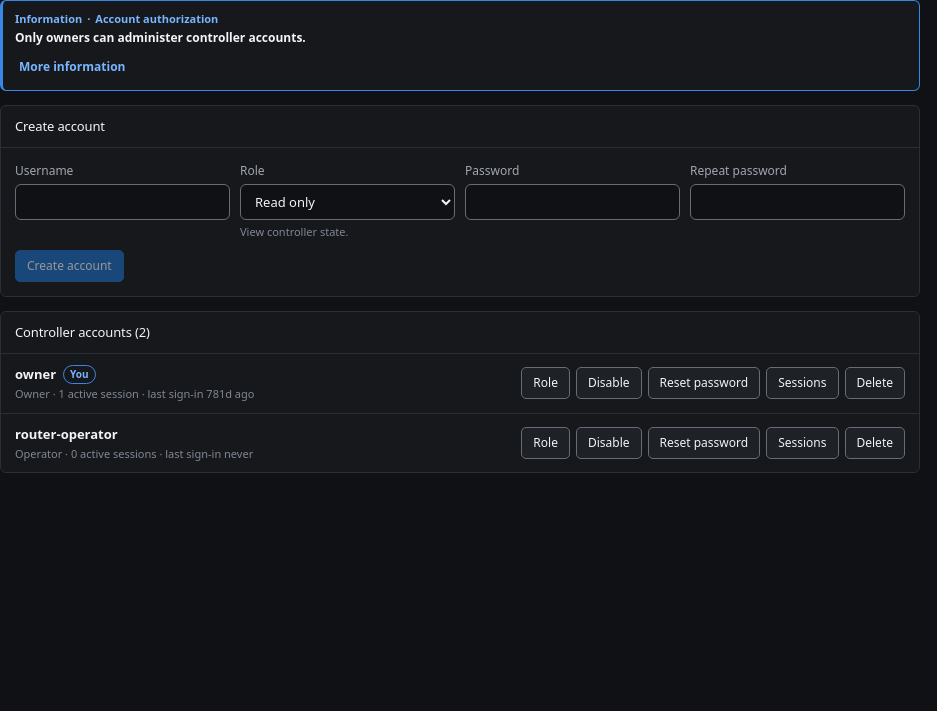
Test: Accounts › labels role selectors separately from their changing descriptions
Check: the text "router-operator" is shown, box [15,425,118,443]
Check: the text "View controller state." is shown, box [240,224,348,239]
Select "Owner" in the dropdown labelled "Role" at (348, 202), box [240,184,455,220]
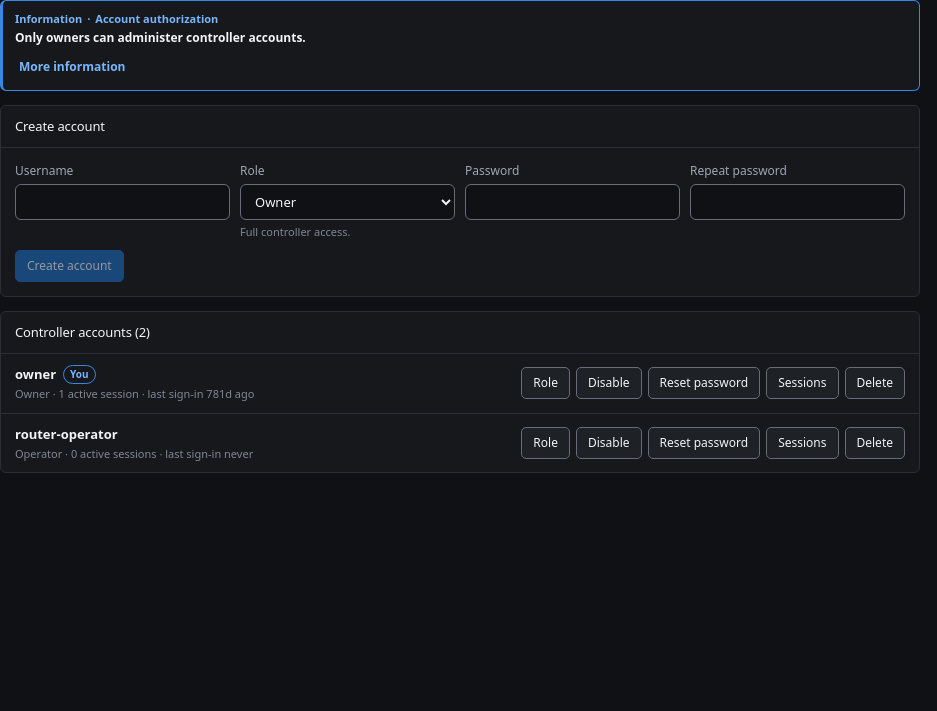
Check: the text "Full controller access." is shown, box [240,224,350,239]
Select "Administrator" in the dropdown labelled "Role" at (348, 202), box [240,184,455,220]
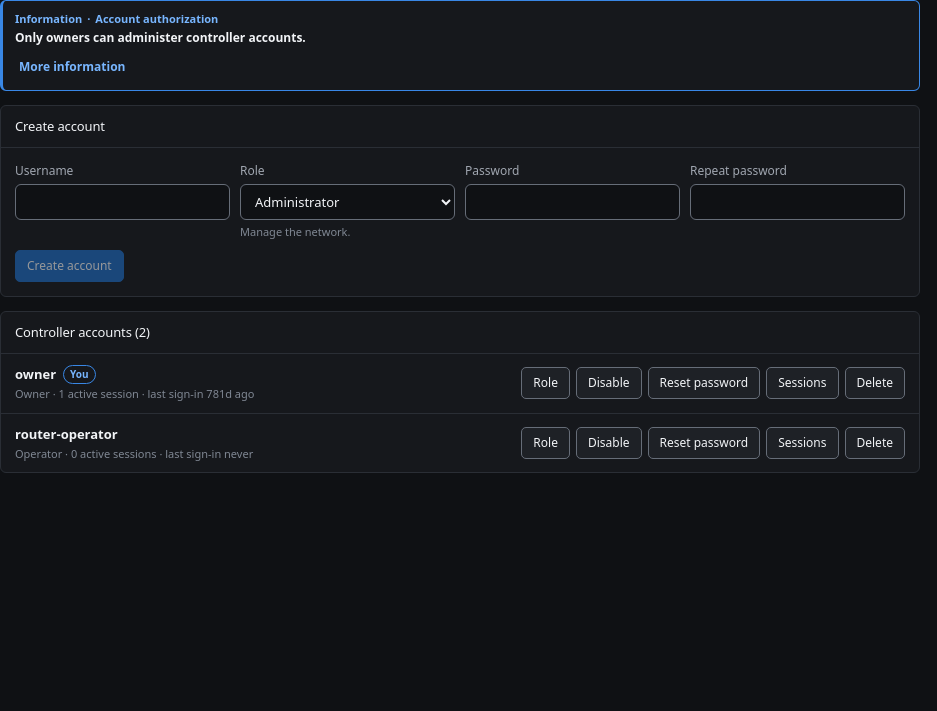
Check: the text "Manage the network." is shown, box [240,224,350,239]
Select "Operator" in the dropdown labelled "Role" at (348, 202), box [240,184,455,220]
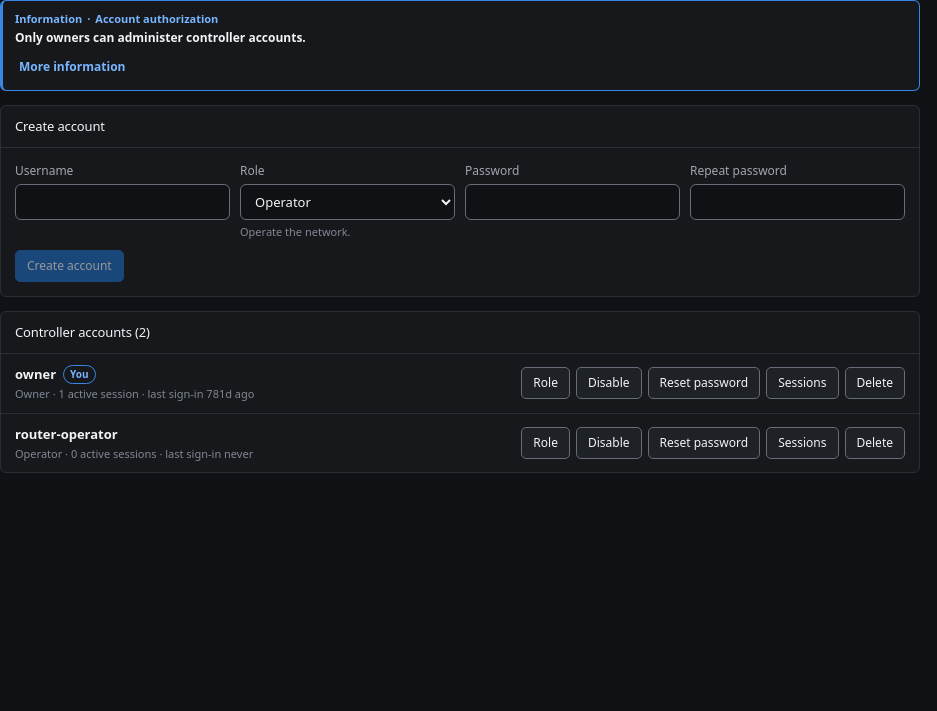
Check: the text "Operate the network." is shown, box [240,224,351,239]
Select "Read only" in the dropdown labelled "Role" at (348, 202), box [240,184,455,220]
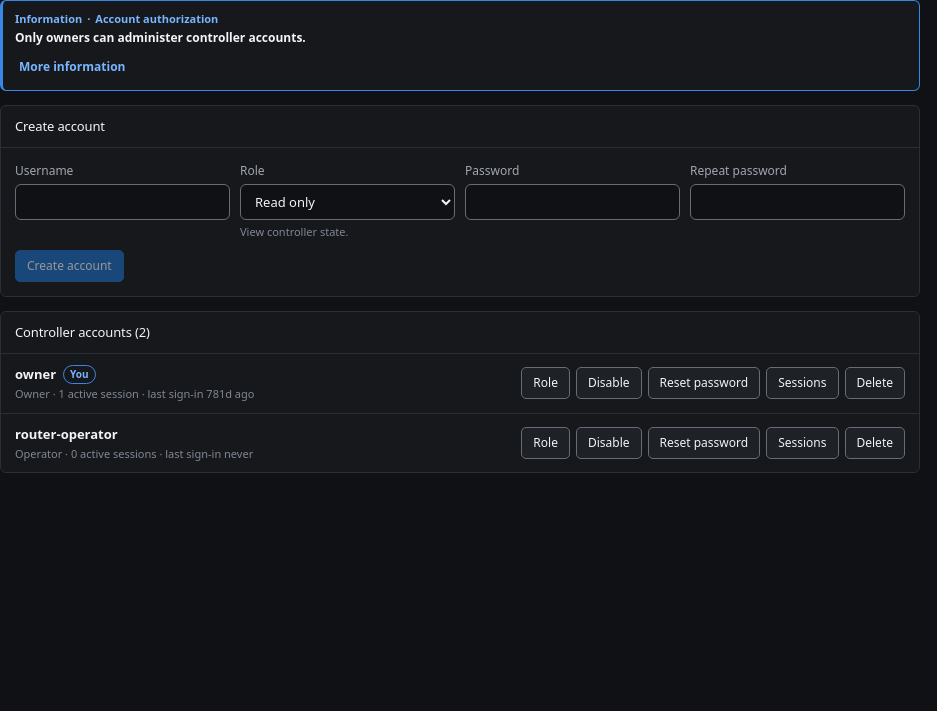
Check: the text "View controller state." is shown, box [240,224,348,239]
Click the button "Role" in the row of "never" at (546, 443), box [521,427,570,459]
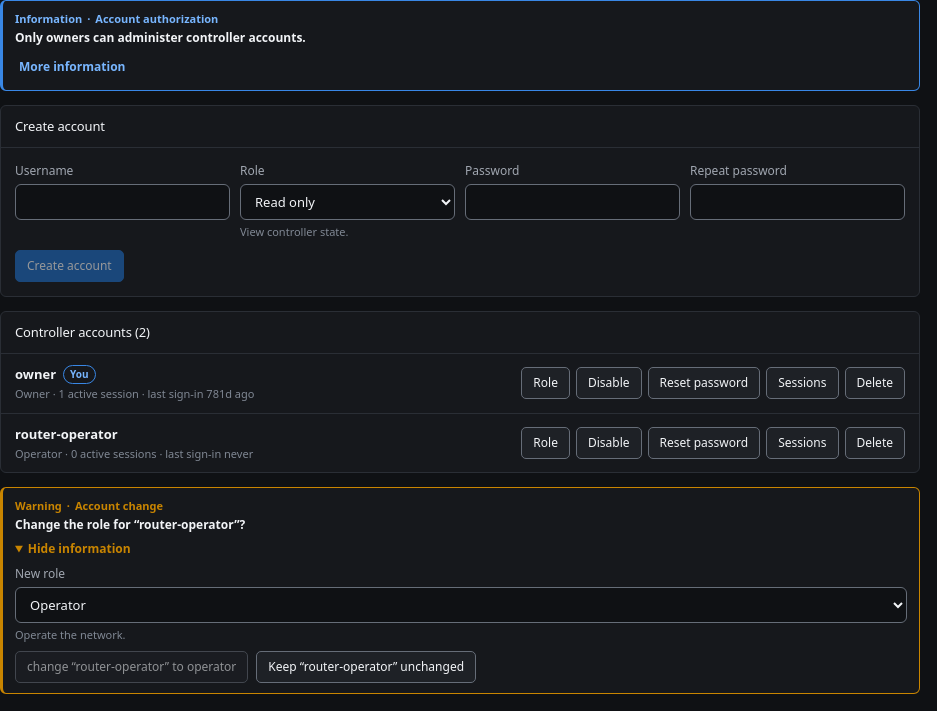
Check: the text "Operate the network." is shown, box [15,627,126,642]
